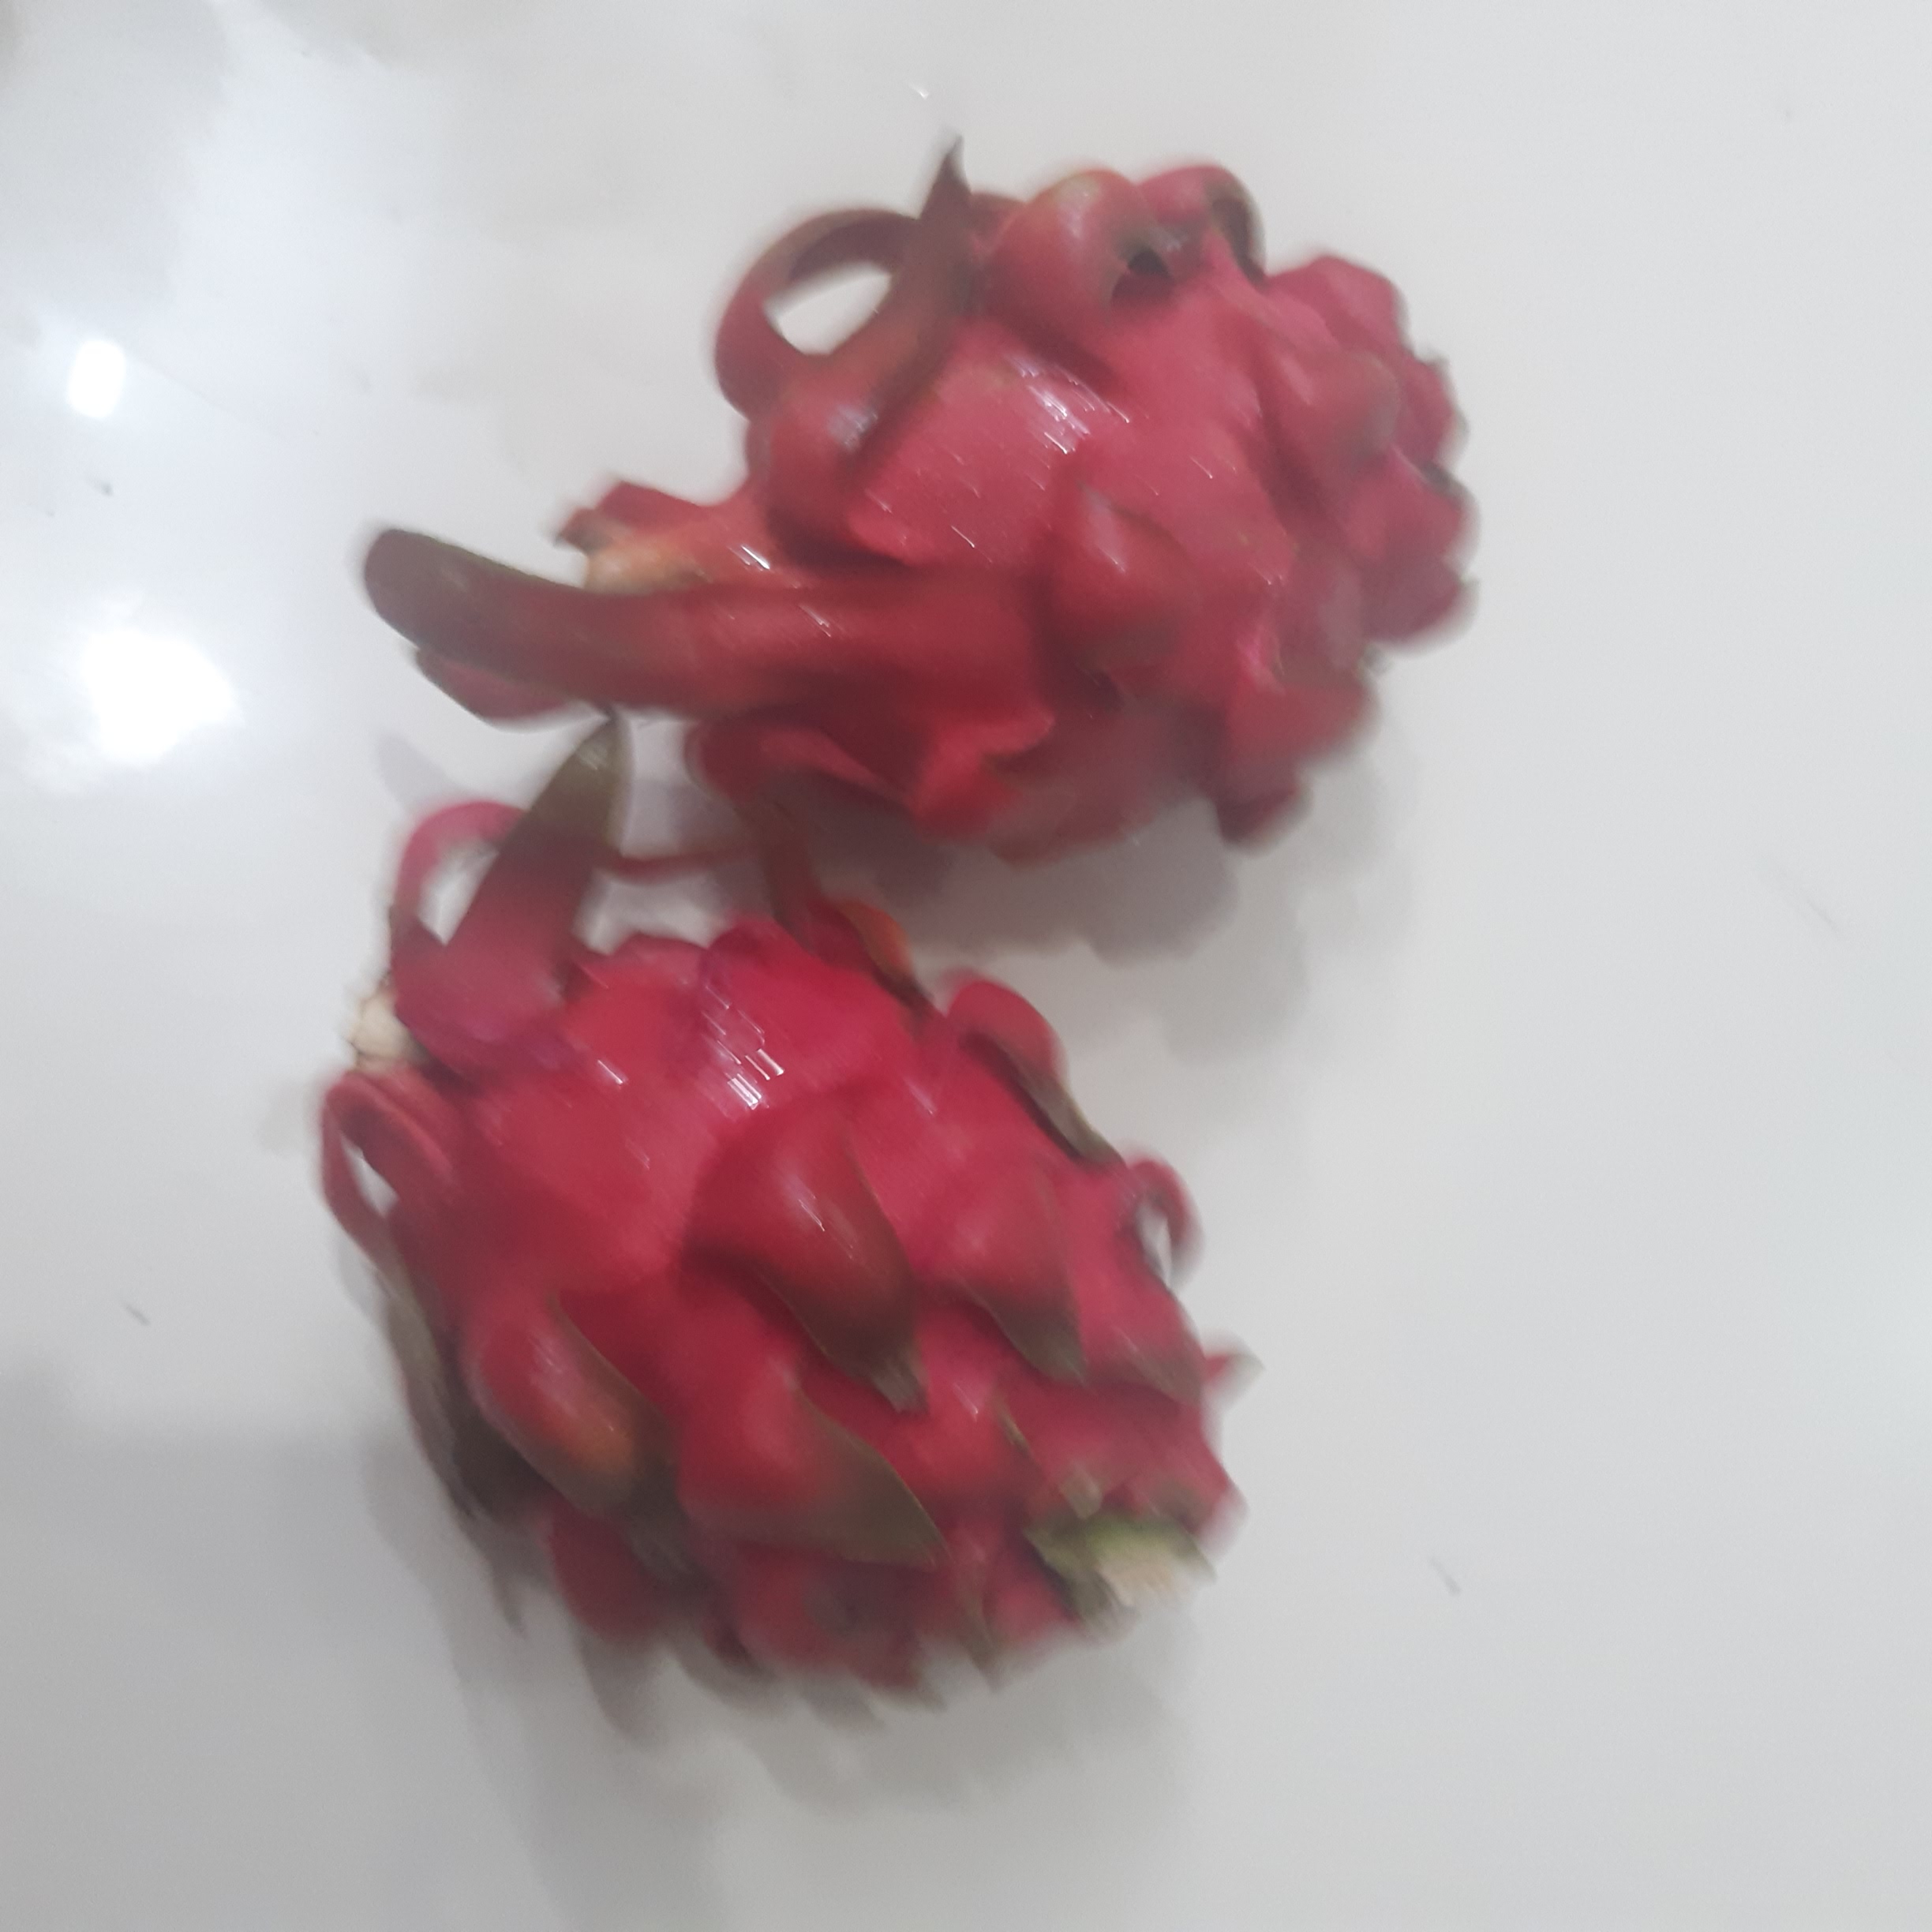Thanh long: (383, 926, 1237, 1660), (714, 204, 1475, 818)
